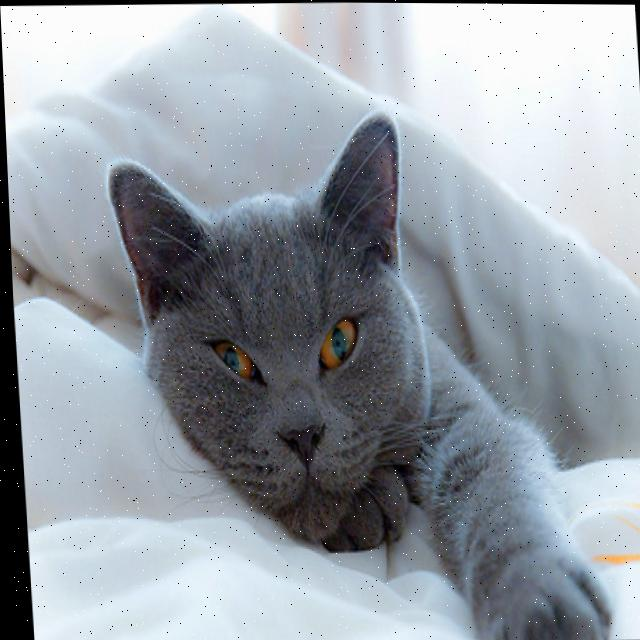British Shorthair: (97, 96, 610, 640)
